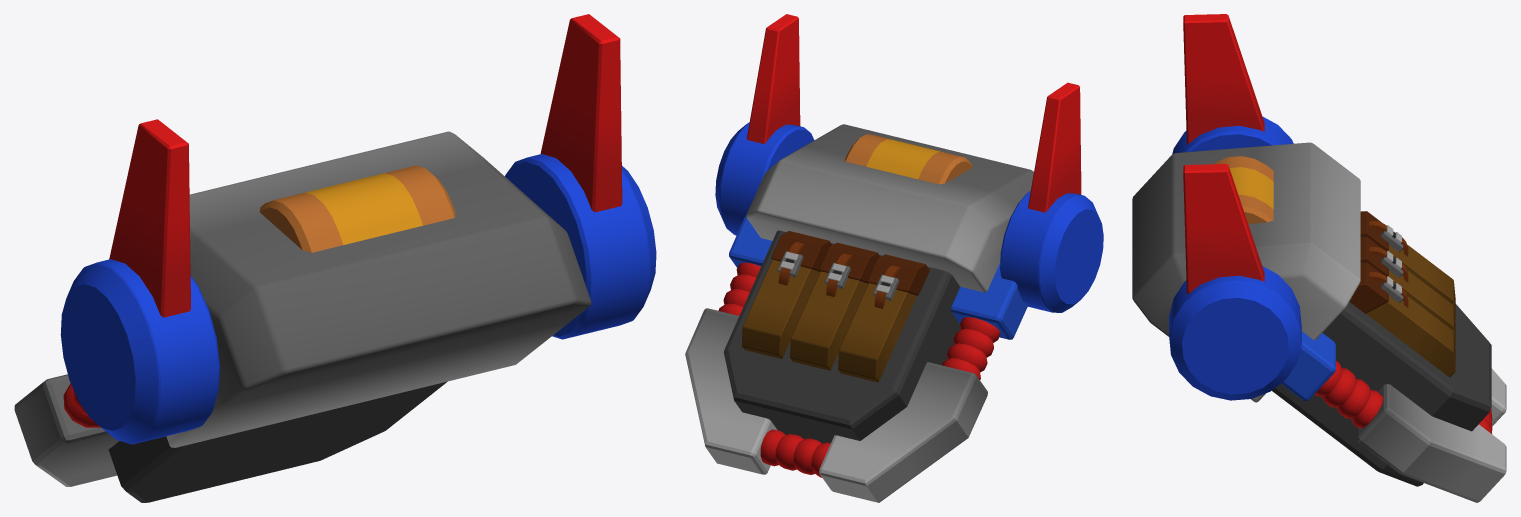
The model's file is Backpack02.fbx.
3 views of the same model, side by side, from view 1: azimuth 30°, elevation 25°; view 2: azimuth 150°, elevation 25°; view 3: azimuth 270°, elevation 25° (orthographic). The views are drawn at different scales.
Parts seen in each view (by area): view 1: Backpack02; view 2: Backpack02; view 3: Backpack02.
Part boxes in pixels (left/top/right/bottom): Backpack02: left=14, top=14, right=656, bottom=502; Backpack02: left=685, top=14, right=1103, bottom=502; Backpack02: left=1132, top=14, right=1506, bottom=502.
Bounding box in the file's own units: 67.92 × 59.33 × 64.44.
1 material, 1 textured.
